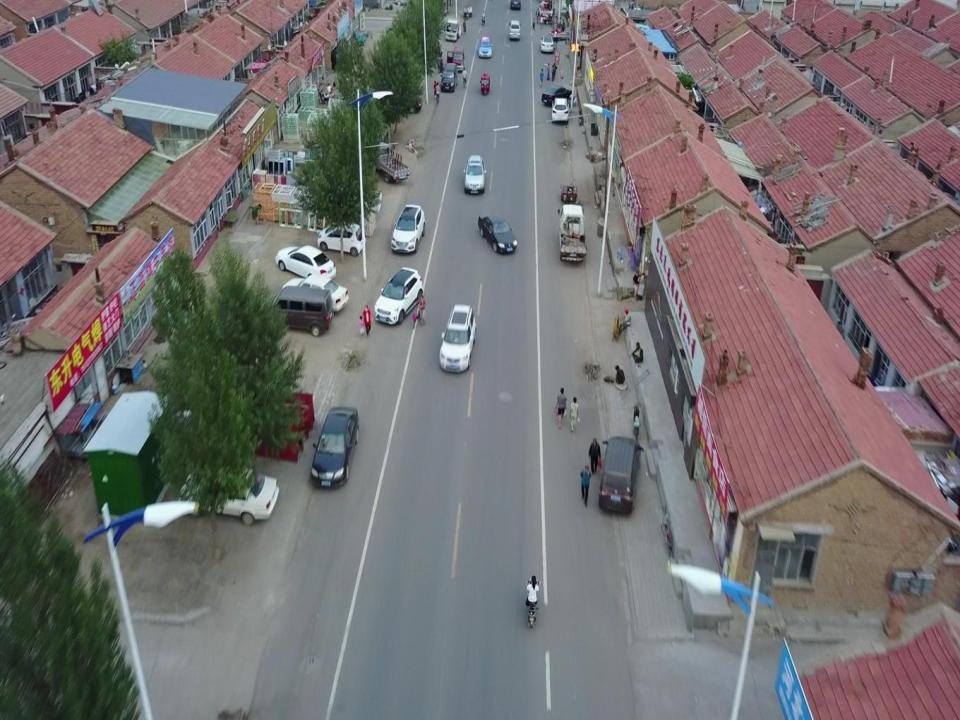car: (179, 467, 280, 522), (310, 404, 359, 488), (374, 268, 424, 324), (439, 304, 477, 372), (283, 278, 349, 314), (276, 245, 336, 283), (392, 204, 426, 254), (477, 215, 518, 256), (316, 222, 365, 254), (462, 154, 486, 194), (540, 85, 574, 105), (551, 98, 569, 123), (478, 37, 493, 58), (541, 33, 554, 52)
truck: (558, 202, 588, 264), (369, 142, 410, 184), (444, 19, 462, 41)
van: (597, 437, 645, 513), (263, 285, 332, 334), (440, 63, 458, 92), (447, 46, 464, 72), (509, 20, 521, 40)
